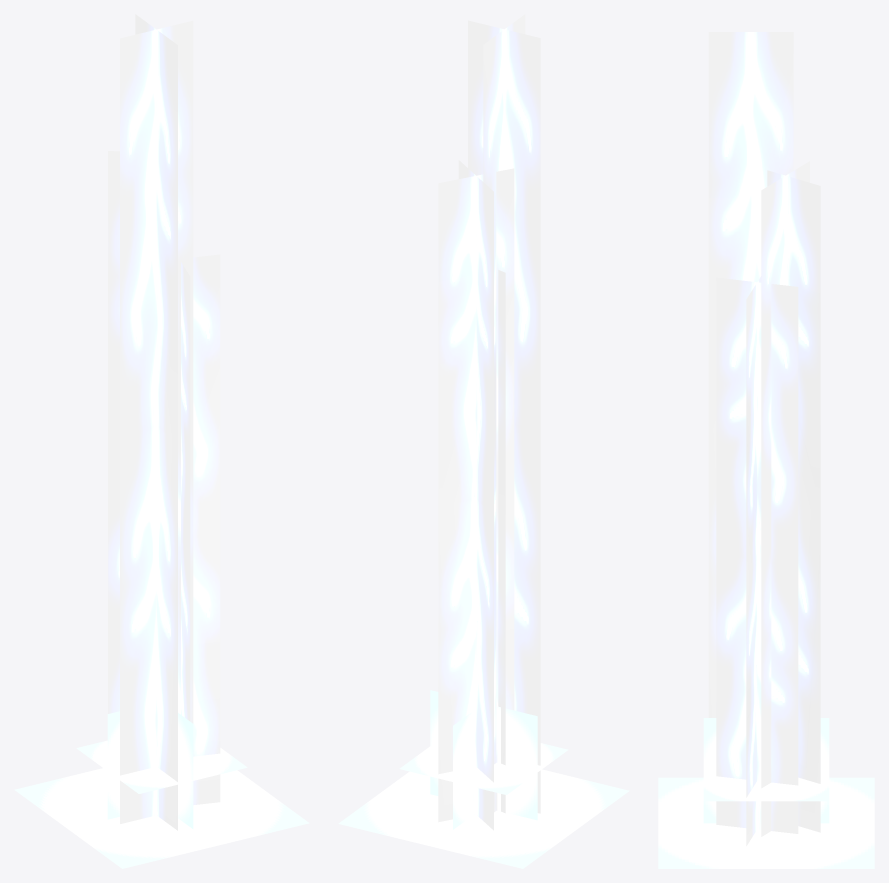
File: sfx_common_thunder1.glb
3 renders of one model, left to right at view 1: azimuth 30°, elevation 25°; view 2: azimuth 150°, elevation 25°; view 3: azimuth 270°, elevation 25°, orthographic.
Parts seen in each view (by area): view 1: sfx_common_thunder1; view 2: sfx_common_thunder1; view 3: sfx_common_thunder1.
Boxes of the visible parts, x1,y1,x2,y2 form: sfx_common_thunder1: (14, 14, 309, 868); sfx_common_thunder1: (338, 14, 629, 868); sfx_common_thunder1: (658, 32, 874, 868).
Size of the model in its own units: 1.98 by 8.01 by 1.98.
Materials: 2 (2 with a texture image).
